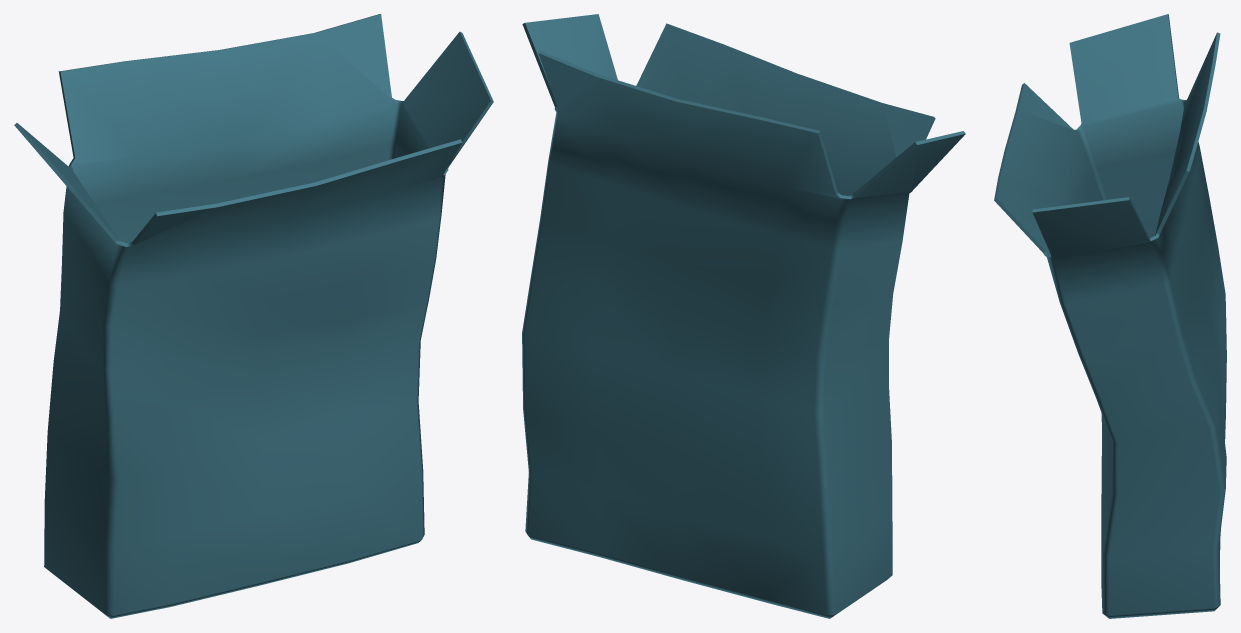
The model's file is SM_SmallTrashkit_snacksBox_003.fbx.
3 views of the same model, side by side, from view 1: azimuth 30°, elevation 25°; view 2: azimuth 150°, elevation 25°; view 3: azimuth 270°, elevation 25° (orthographic). The views are drawn at different scales.
Visible parts, largest first — view 1: SM_SmallTrashkit_snacksBox_003; view 2: SM_SmallTrashkit_snacksBox_003; view 3: SM_SmallTrashkit_snacksBox_003.
Part boxes in pixels (box(x1,y1,x2,y2)): SM_SmallTrashkit_snacksBox_003: box(14, 14, 493, 618); SM_SmallTrashkit_snacksBox_003: box(522, 14, 965, 618); SM_SmallTrashkit_snacksBox_003: box(994, 14, 1226, 618).
Size of the model in its own units: 40.02 by 45.18 by 20.85.
